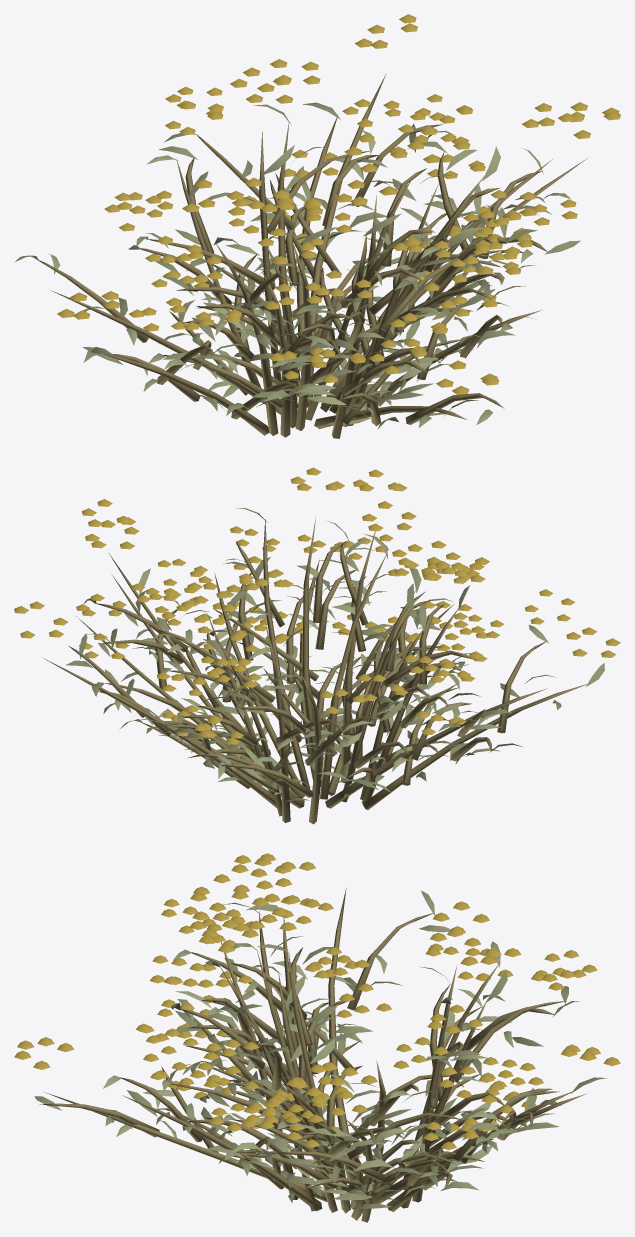
The model's file is Immortelle_Jeune_LOD1.fbx.
3 renders of one model, top to bottom at view 1: azimuth 30°, elevation 25°; view 2: azimuth 150°, elevation 25°; view 3: azimuth 270°, elevation 25°, orthographic. The views are drawn at different scales.
Visible parts, largest first — view 1: Immortelle_Jeune_LOD1; view 2: Immortelle_Jeune_LOD1; view 3: Immortelle_Jeune_LOD1.
Boxes of the visible parts, x1=… form: Immortelle_Jeune_LOD1: x1=14, y1=14, x2=620, y2=438; Immortelle_Jeune_LOD1: x1=14, y1=467, x2=620, y2=824; Immortelle_Jeune_LOD1: x1=14, y1=853, x2=620, y2=1222.
Bounding box in the file's own units: 47.18 × 25.17 × 43.35.
